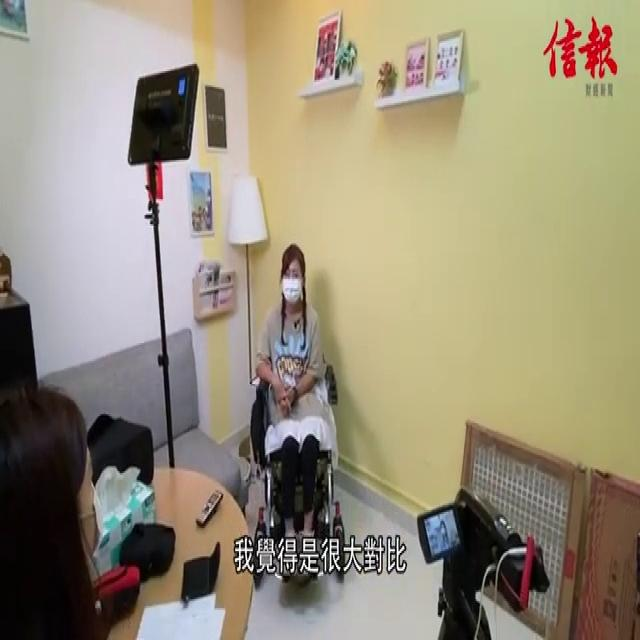wheelchairs: (248, 331, 354, 588)
